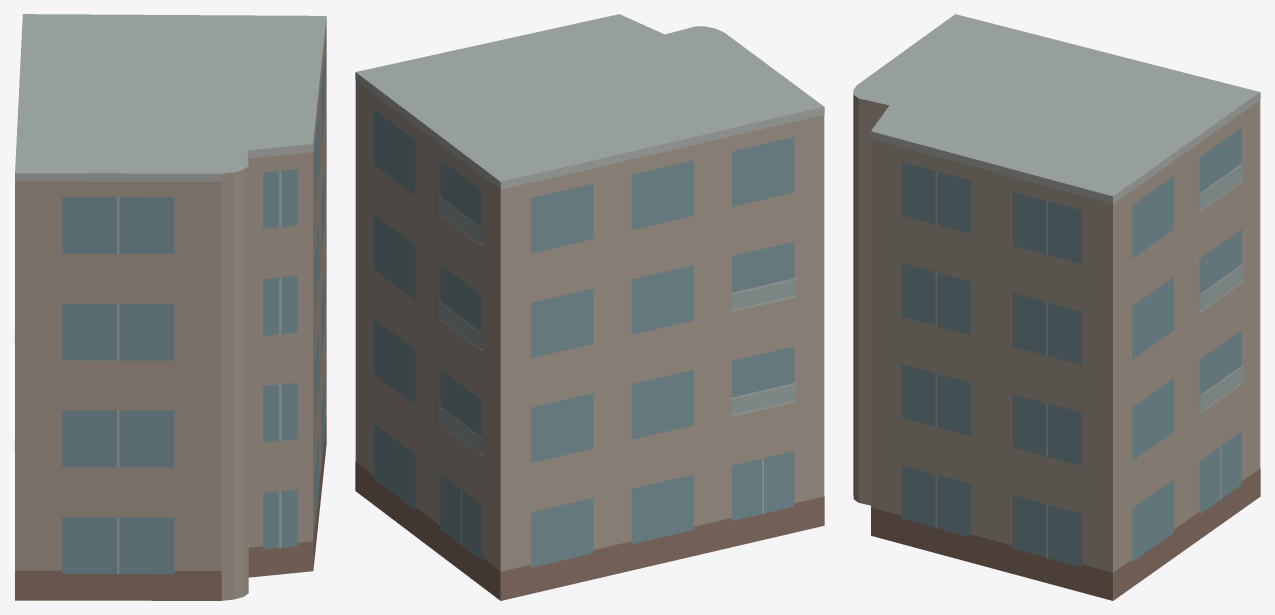
File: survey-upis-32665919.glb
3 views of the same model, side by side, from view 1: azimuth 30°, elevation 25°; view 2: azimuth 150°, elevation 25°; view 3: azimuth 270°, elevation 25° (orthographic). The views are drawn at different scales.
Parts seen in each view (by area): view 1: survey-upis-32665919.tmp; view 2: survey-upis-32665919.tmp; view 3: survey-upis-32665919.tmp.
Part boxes in pixels (box(x1,y1,x2,y2)): survey-upis-32665919.tmp: box(14, 14, 326, 600); survey-upis-32665919.tmp: box(355, 14, 824, 600); survey-upis-32665919.tmp: box(853, 14, 1260, 600).
Size of the model in its own units: 12.39 by 12.8 by 11.68.
